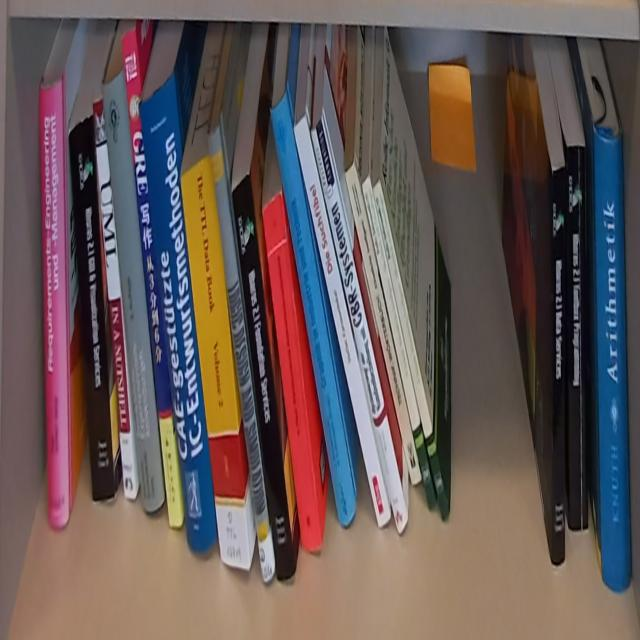Book Spine: (309, 111, 409, 540), (295, 112, 392, 535), (266, 86, 357, 528), (140, 72, 218, 554), (207, 122, 277, 588), (179, 154, 252, 571), (122, 26, 182, 533), (103, 67, 164, 516), (371, 178, 447, 522), (361, 176, 438, 512), (232, 176, 294, 584), (344, 162, 421, 490), (261, 189, 323, 555), (592, 129, 632, 597), (93, 91, 136, 501), (69, 115, 114, 504), (38, 78, 69, 532), (566, 149, 589, 531), (550, 165, 566, 570)
